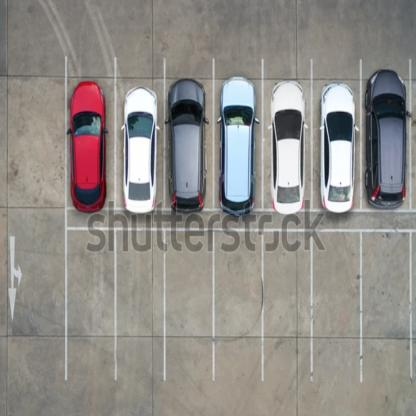Car: (217, 81, 258, 211), (316, 79, 356, 200), (71, 82, 111, 201), (269, 79, 304, 205), (167, 86, 204, 200), (124, 92, 158, 204)
Empty: (220, 243, 257, 364), (170, 244, 208, 361), (316, 245, 354, 361), (272, 244, 307, 366), (367, 244, 405, 354), (122, 244, 157, 355), (74, 245, 108, 354), (371, 85, 402, 196)
